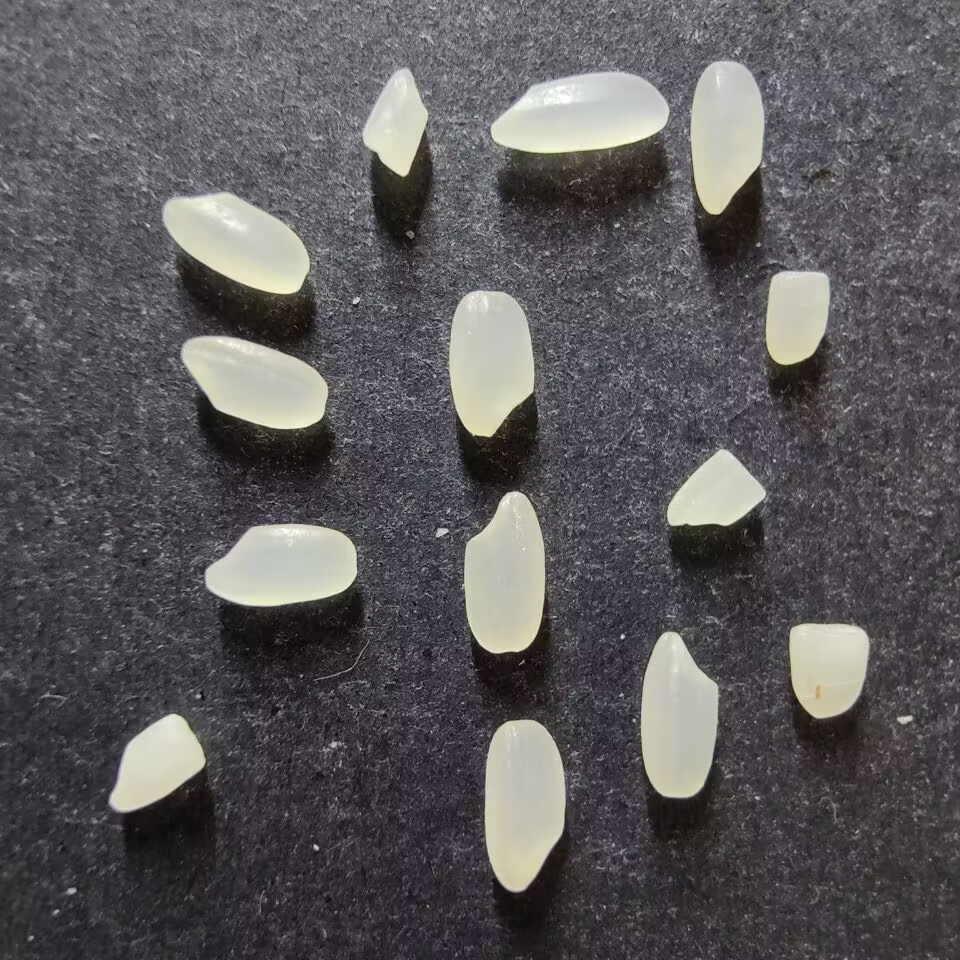broken: (108, 712, 205, 813), (665, 448, 768, 527), (788, 622, 869, 717), (360, 68, 428, 178), (764, 270, 830, 365)
rice: (162, 192, 309, 294), (490, 71, 669, 153), (483, 718, 566, 893), (180, 335, 328, 429), (463, 490, 546, 654), (639, 631, 719, 799), (204, 523, 357, 607), (448, 290, 535, 437), (689, 60, 765, 216)
